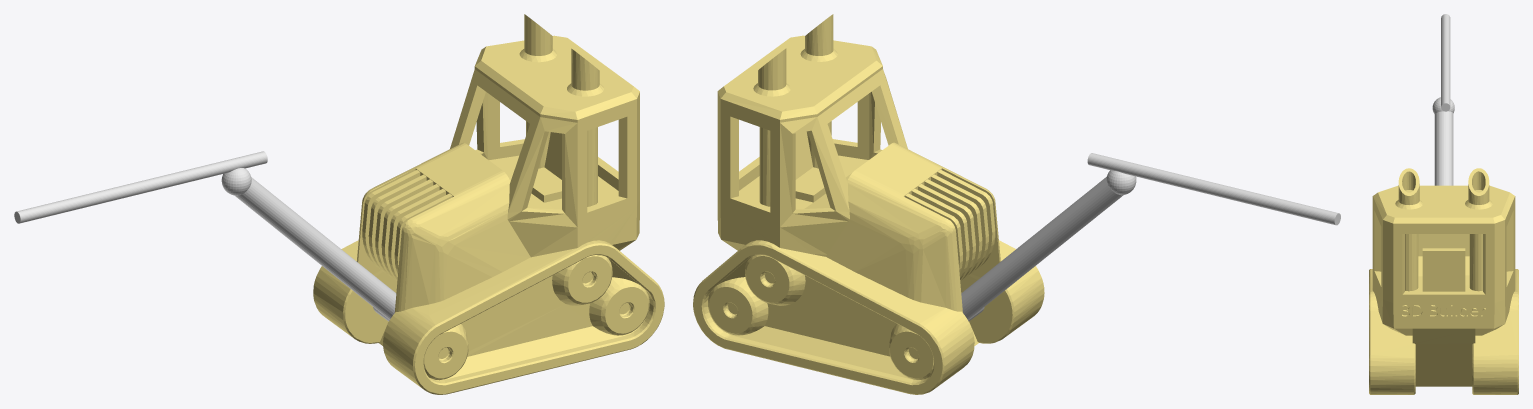
The model's file is BULLDOZER.fbx.
3 views of the same model, side by side, from view 1: azimuth 30°, elevation 25°; view 2: azimuth 150°, elevation 25°; view 3: azimuth 270°, elevation 25° (orthographic). The views are drawn at different scales.
Parts seen in each view (by area): view 1: Object.1, Cylinder.001, Cylinder.002, Sphere; view 2: Object.1, Cylinder.001, Cylinder.002, Sphere; view 3: Object.1, Cylinder.001, Cylinder.002, Sphere.
Boxes of the visible parts, box(x1,y1,x2,y2) form: Object.1: box(313, 14, 664, 394); Cylinder.001: box(234, 177, 396, 319); Cylinder.002: box(14, 151, 267, 223); Sphere: box(221, 168, 251, 195); Object.1: box(693, 14, 1044, 394); Cylinder.001: box(961, 177, 1123, 319); Cylinder.002: box(1087, 153, 1340, 225); Sphere: box(1106, 170, 1136, 195); Object.1: box(1369, 168, 1518, 394); Cylinder.001: box(1434, 111, 1453, 185); Cylinder.002: box(1441, 14, 1450, 111); Sphere: box(1432, 97, 1454, 113).
Size of the model in its own units: 5481 by 2533 by 1612.
